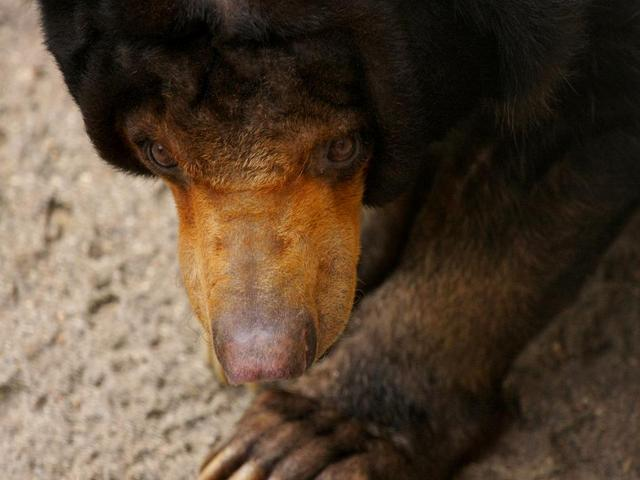Bear: (30, 1, 600, 476)
